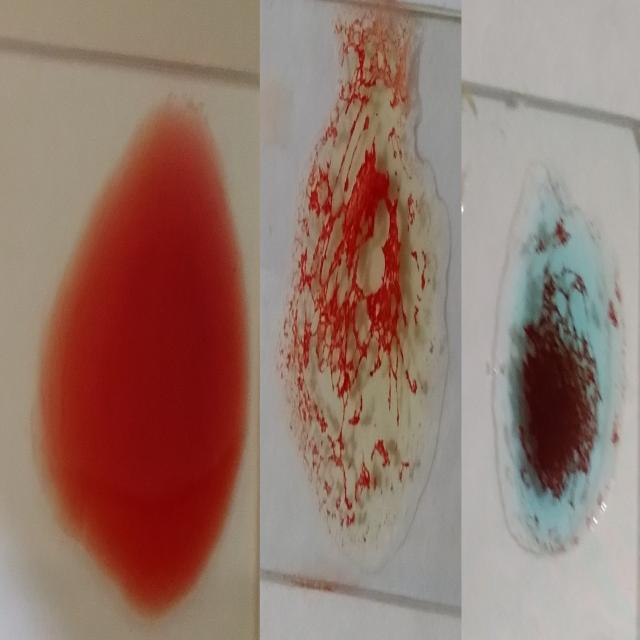A: (500, 178, 617, 562)
B: (280, 15, 450, 569)
